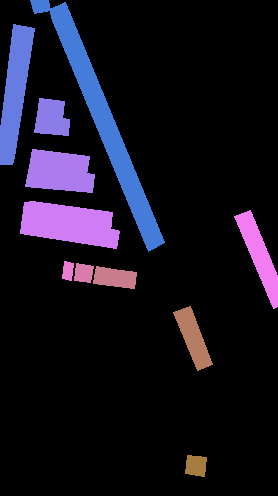parkingspot: (49, 2, 164, 251), (0, 24, 34, 164), (234, 210, 278, 308), (20, 217, 119, 248), (22, 201, 112, 231), (173, 306, 212, 370), (25, 166, 94, 192), (29, 149, 89, 174), (93, 266, 136, 288), (34, 114, 69, 135), (37, 98, 64, 119), (185, 455, 206, 476), (74, 263, 93, 282), (30, 0, 50, 13), (62, 261, 73, 280)
